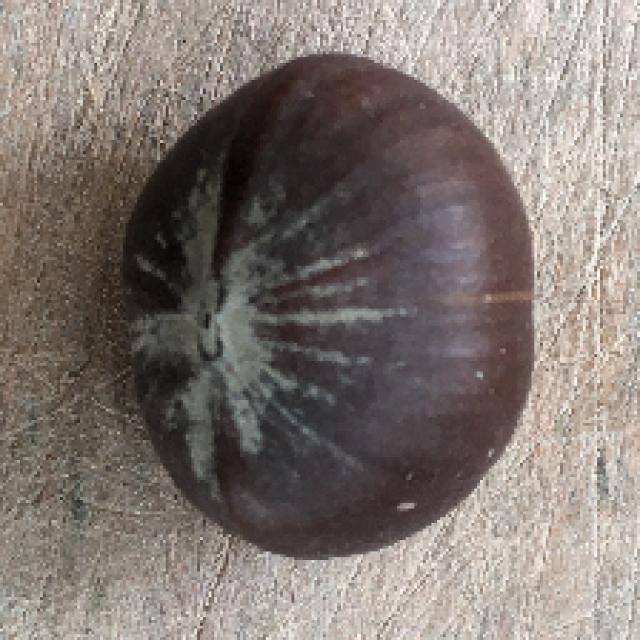DamagedHazelnut: (122, 49, 538, 564)
